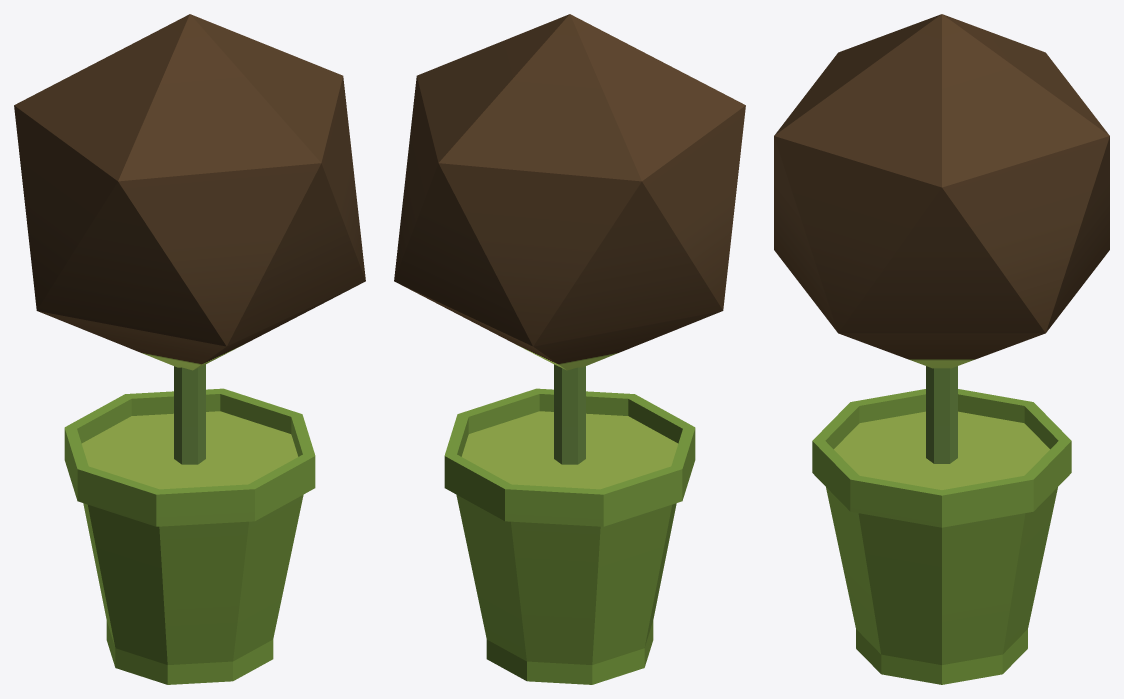
The model's file is Pot_05.fbx.
3 views of the same model, side by side, from view 1: azimuth 30°, elevation 25°; view 2: azimuth 150°, elevation 25°; view 3: azimuth 270°, elevation 25° (orthographic).
Parts seen in each view (by area): view 1: Pot_05; view 2: Pot_05; view 3: Pot_05.
Part boxes in pixels (x1,y1,x2,y2): Pot_05: (14,14,365,684); Pot_05: (394,14,745,684); Pot_05: (774,14,1109,684).
Size of the model in its own units: 0.5283 by 1.05 by 0.5025.
